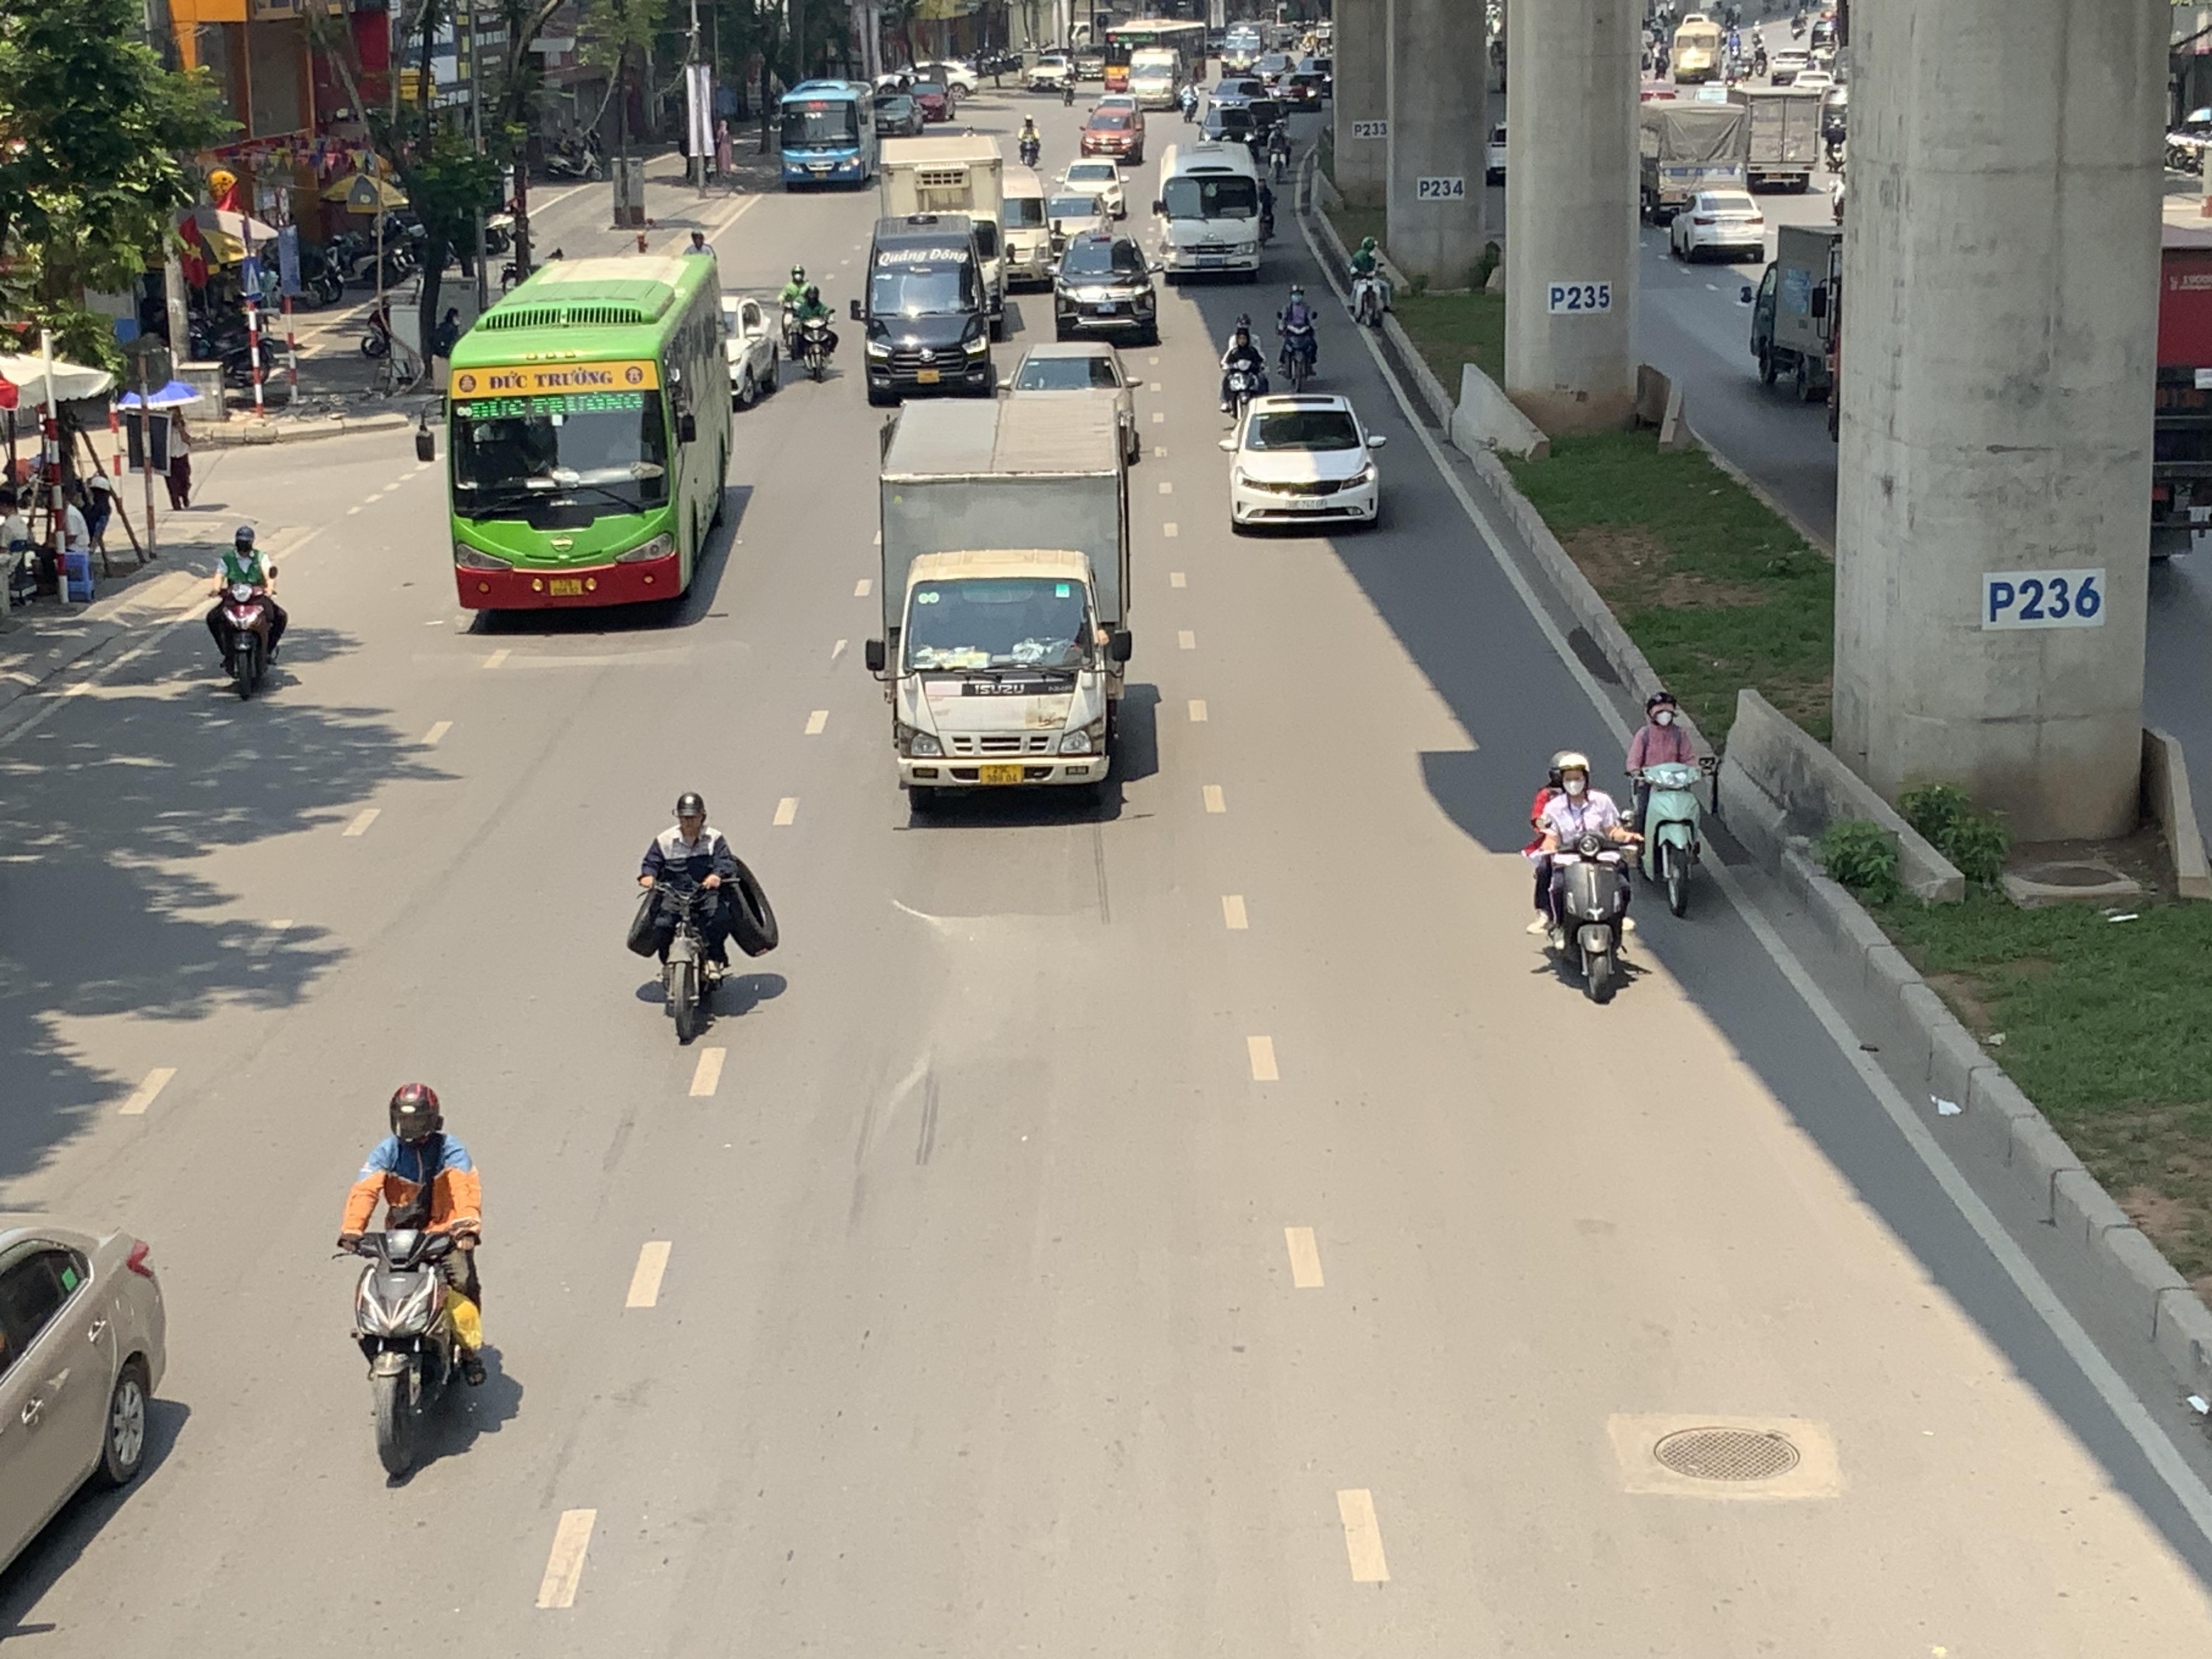BSV: (979, 765, 1024, 786)
bus: (439, 249, 735, 624), (859, 211, 1003, 404), (1153, 138, 1261, 279), (777, 77, 878, 192)
car: (0, 1215, 171, 1656), (1221, 390, 1388, 533), (996, 340, 1146, 464), (1050, 232, 1160, 347), (1669, 186, 1768, 261), (1082, 96, 1146, 164), (1061, 155, 1129, 220), (1198, 106, 1259, 155)
motorbike: (338, 1080, 495, 1486), (631, 789, 775, 1047), (1527, 749, 1641, 1006), (1625, 688, 1716, 918), (206, 523, 287, 701), (0, 502, 92, 612), (1217, 315, 1270, 423), (1341, 235, 1395, 331), (1275, 284, 1322, 389), (794, 282, 840, 383), (777, 265, 812, 364), (1017, 113, 1043, 169)
truck: (864, 396, 1141, 816), (876, 136, 1007, 324), (1740, 220, 1846, 390), (1728, 78, 1824, 193)
